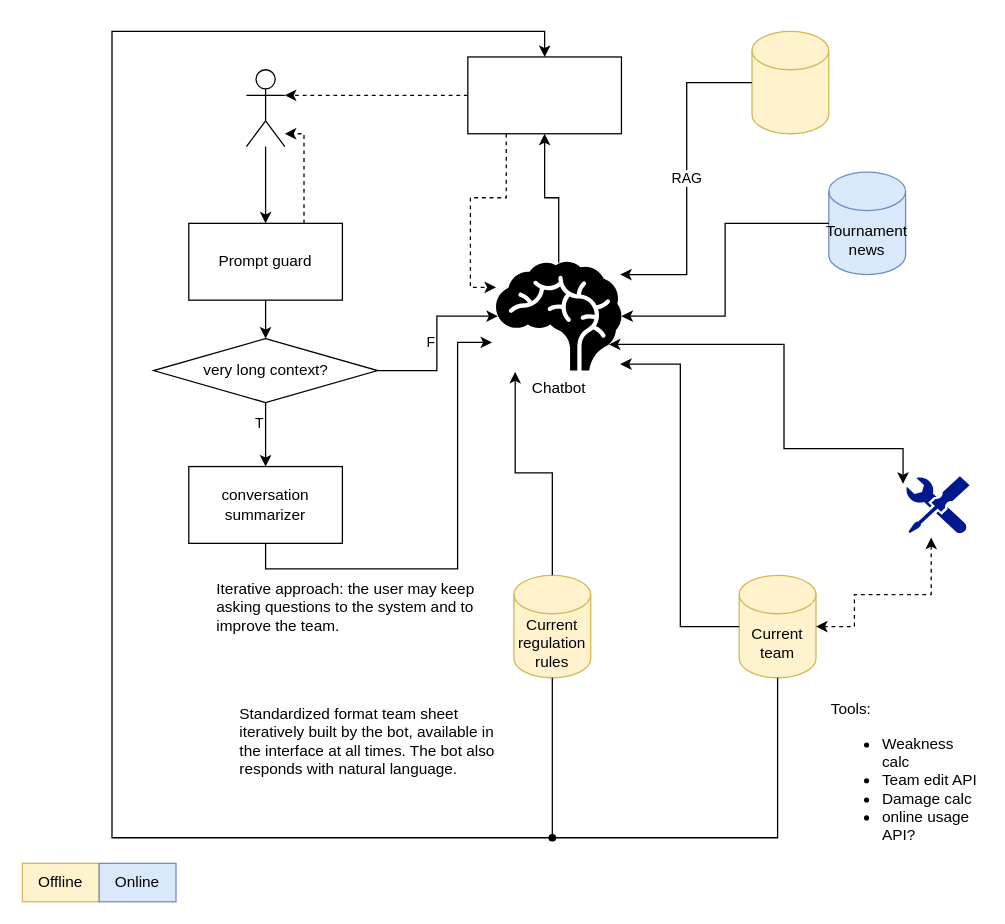
Some shapes in this 1005 by 924 pixel diagram are drawn without their labels. Here are the shapes that lost their labels. From the top down, the centre of each, then its label:
[544,95]: Hard legality check
[790,82]: Archetypes strategy guides
[265,107]: User
[937,504]: Tools
